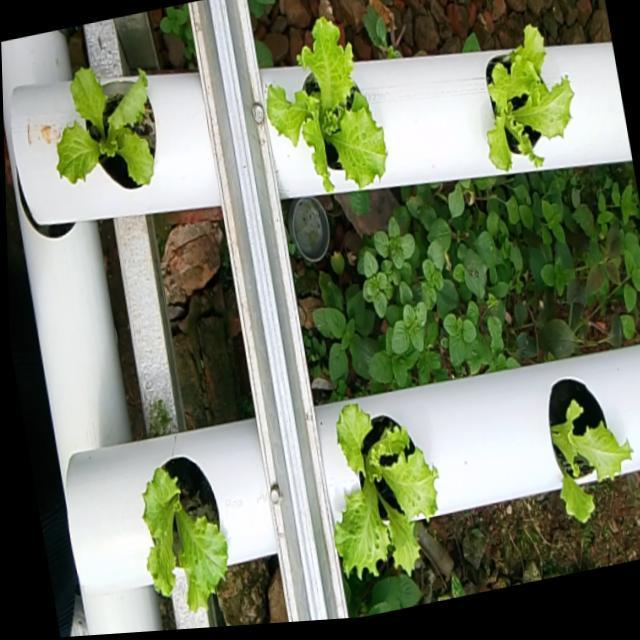Baby: (264, 21, 384, 196), (332, 407, 435, 594), (141, 460, 226, 616), (483, 27, 569, 172), (54, 72, 154, 194), (545, 378, 628, 522)
